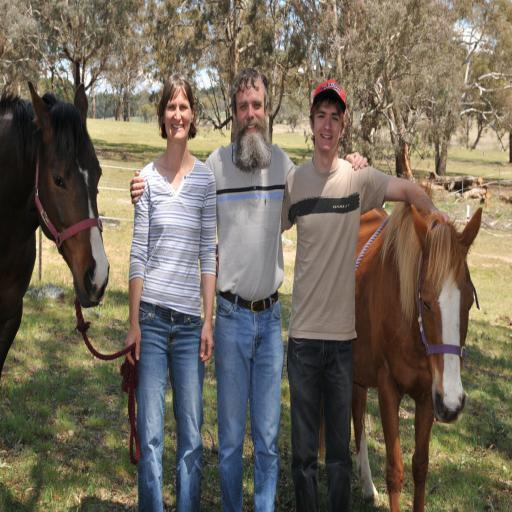horse: (318, 174, 484, 512), (0, 77, 111, 381)
